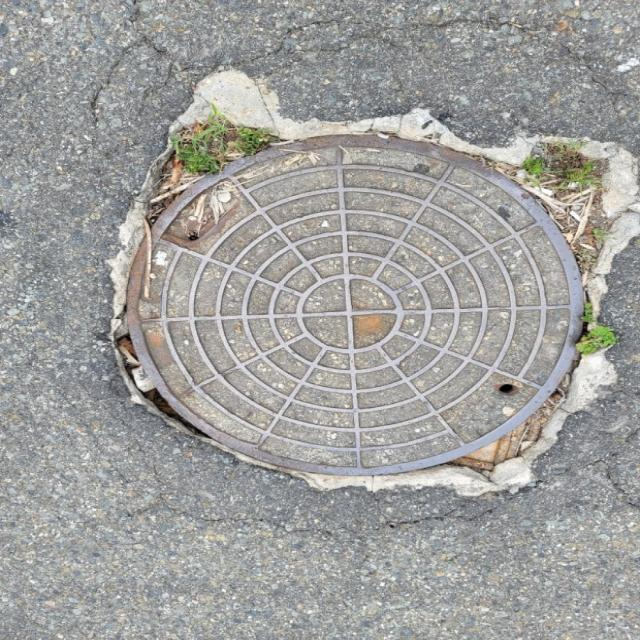manhole: (126, 135, 582, 475)
